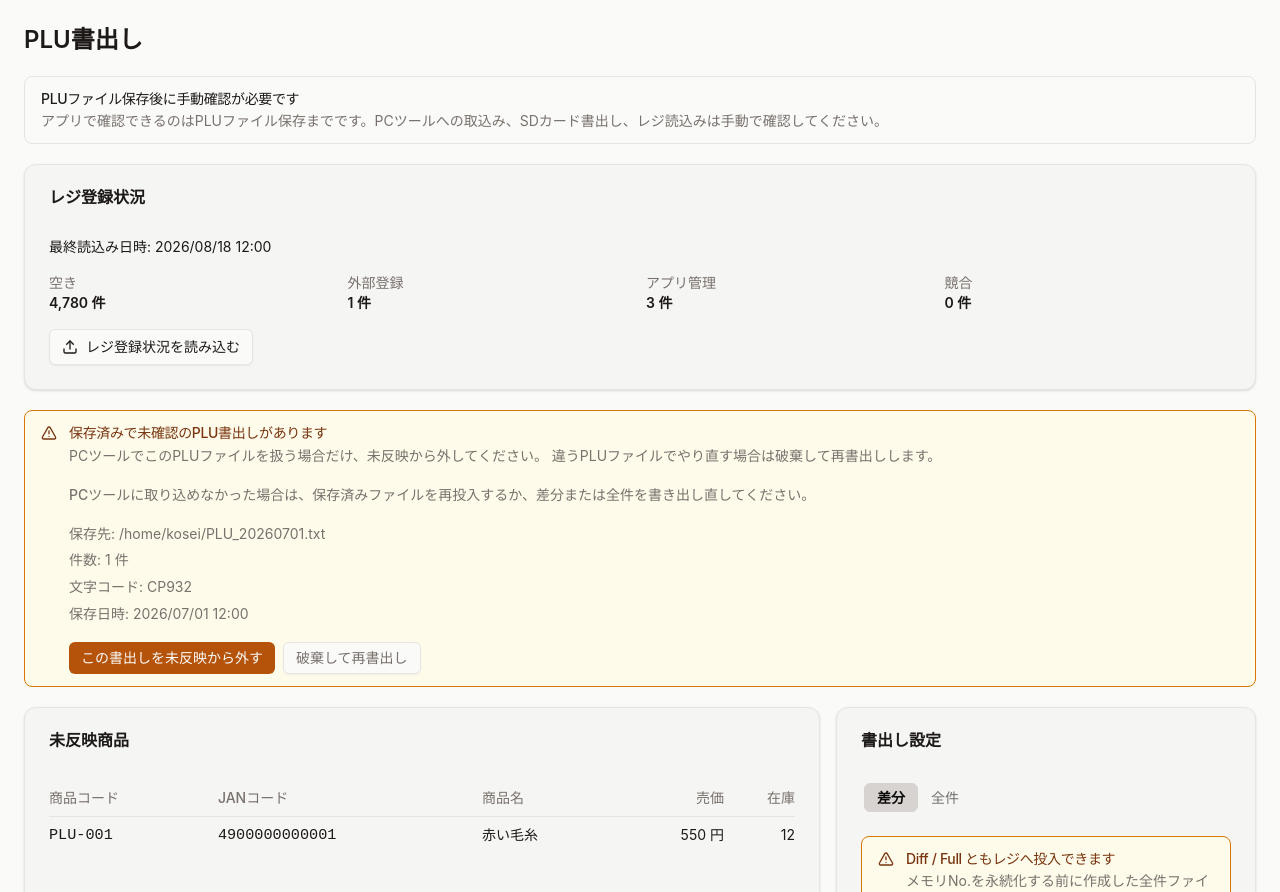
Test: PluExportPage (UI-08 / REQ-402) › REQ-402 lets the operator discard a restored pending export and re-export
The image size is (1280, 892).
Click the button "破棄して再書出し" at (352, 658), box left=283, top=642, right=421, bottom=674
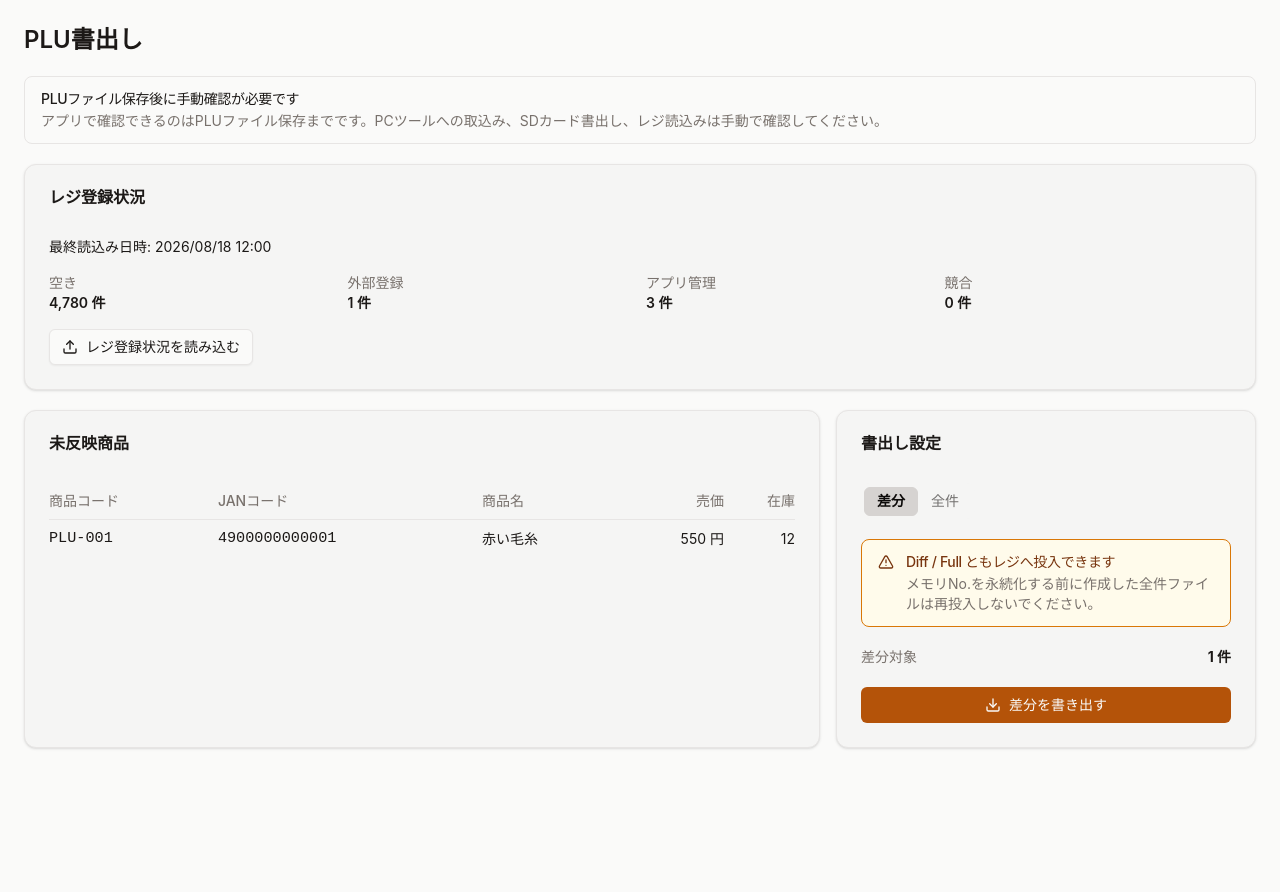
Now the text "保存済みで未確認のPLU書出しがあります" is gone
